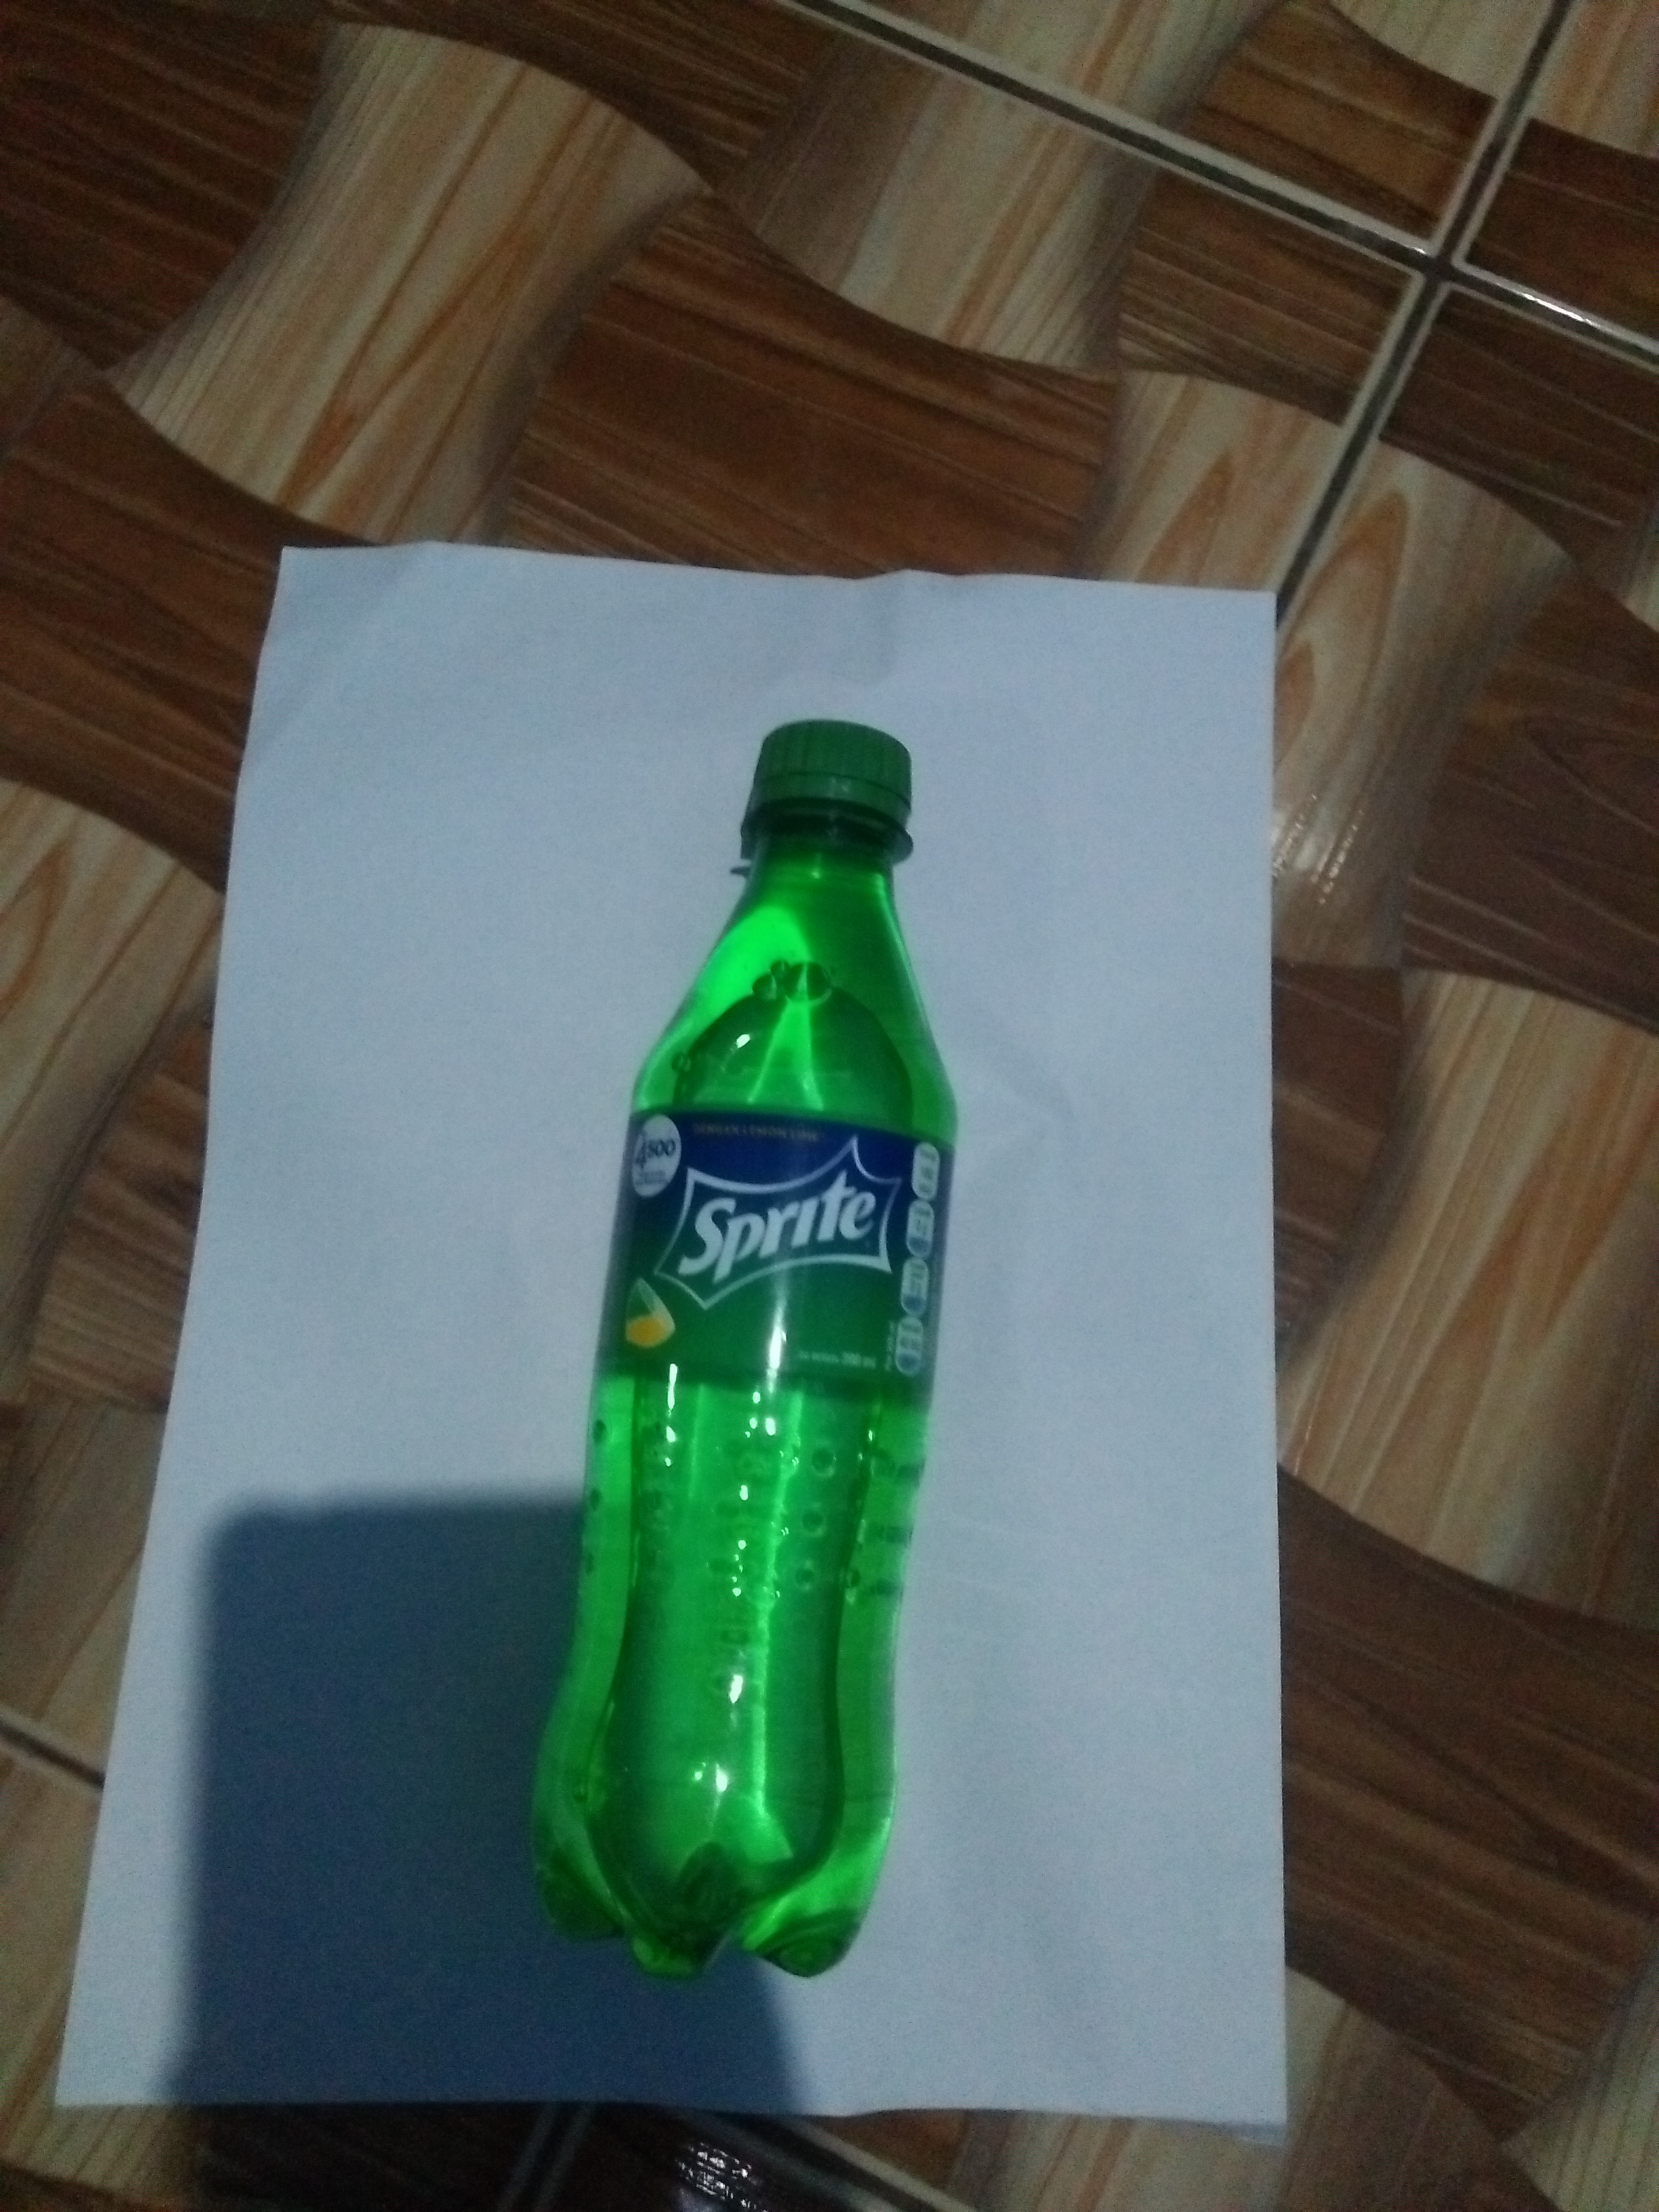Sprite: (507, 690, 988, 1993)
